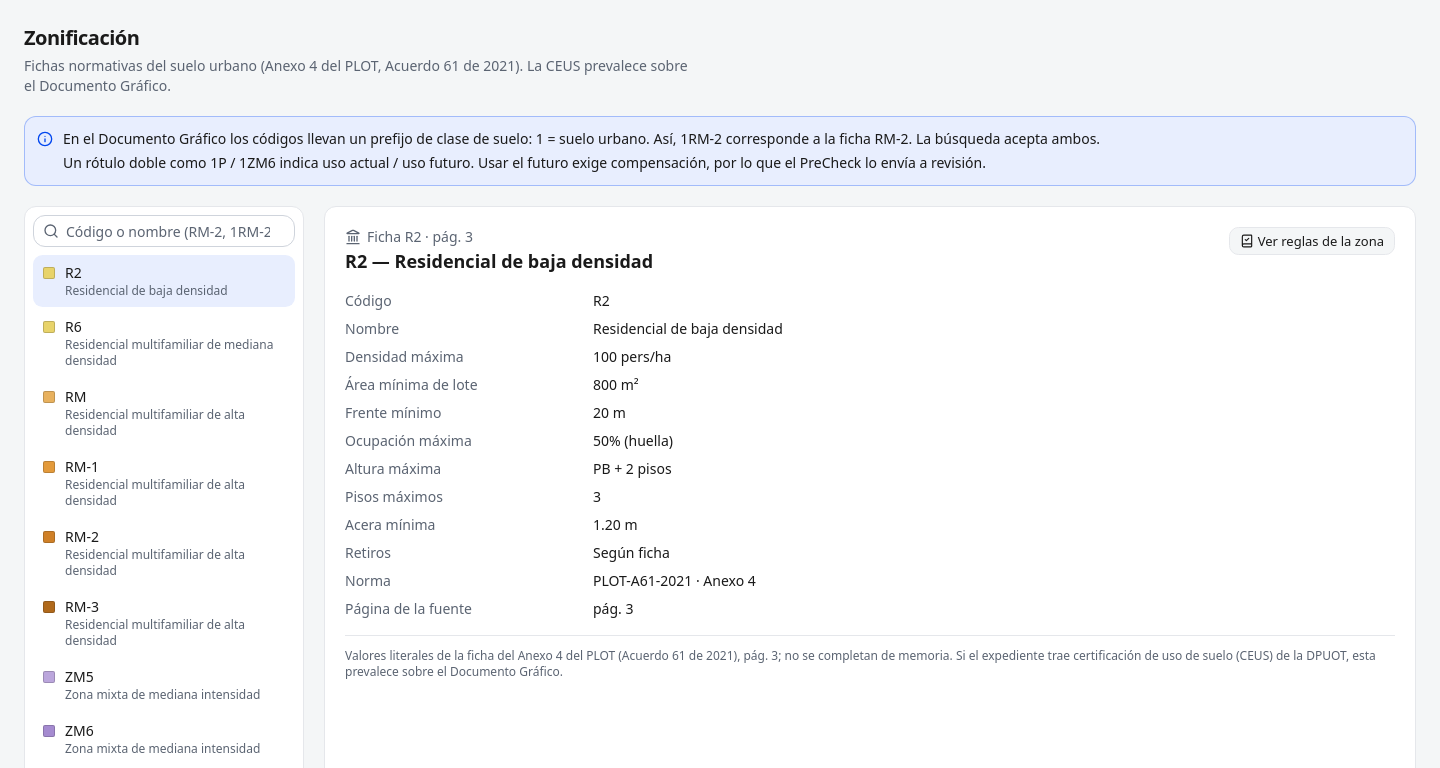
ZoningView › busca con el prefijo 1 y muestra la ficha literal con su página
In the search field named "Buscar ficha": (164, 231) left=33, top=215, right=295, bottom=247, type "1RM-2"
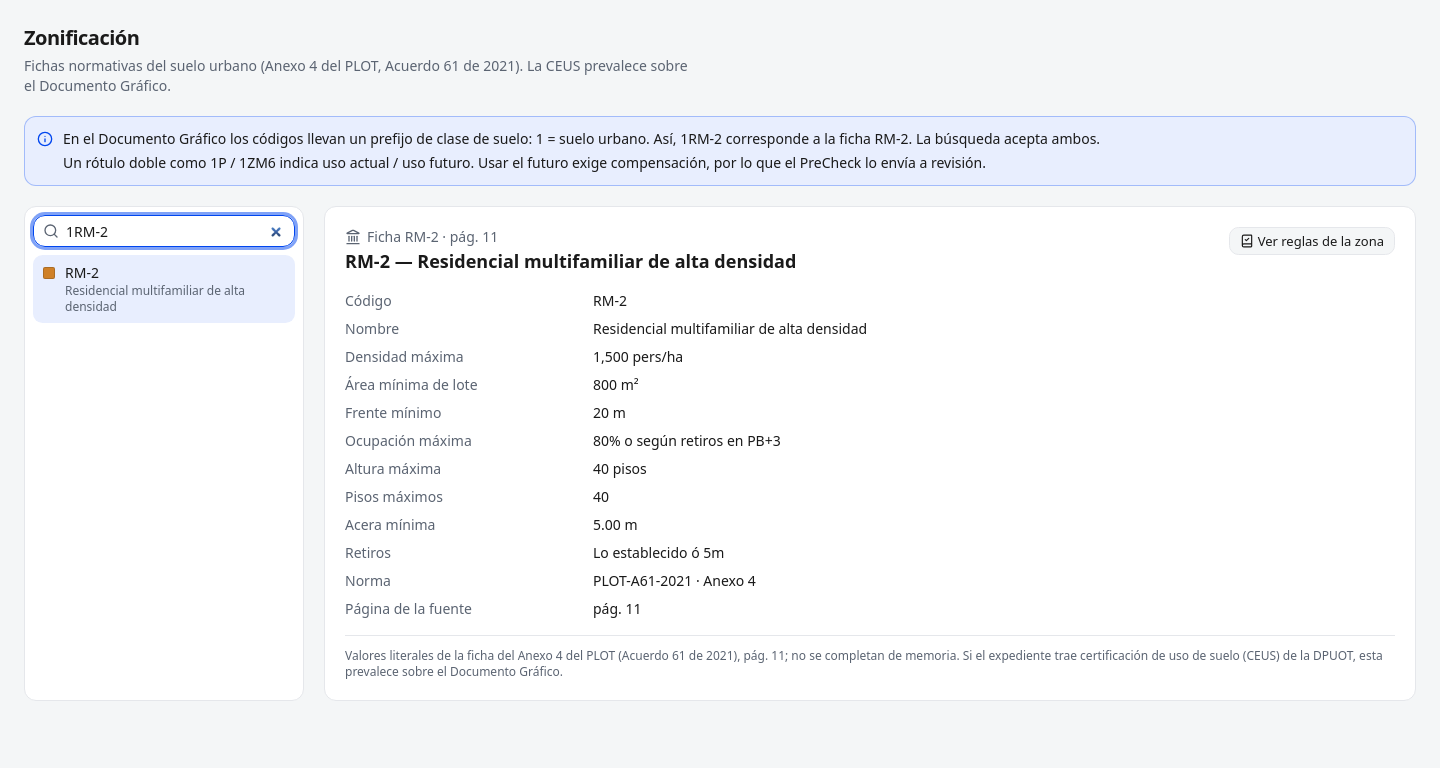
Result: the number of buttons is 1 at left=33, top=255, right=295, bottom=323
Result: the text "Lo establecido ó 5m" is shown at left=593, top=543, right=724, bottom=562
Result: the text "1,500 pers/ha" is shown at left=593, top=347, right=683, bottom=366
